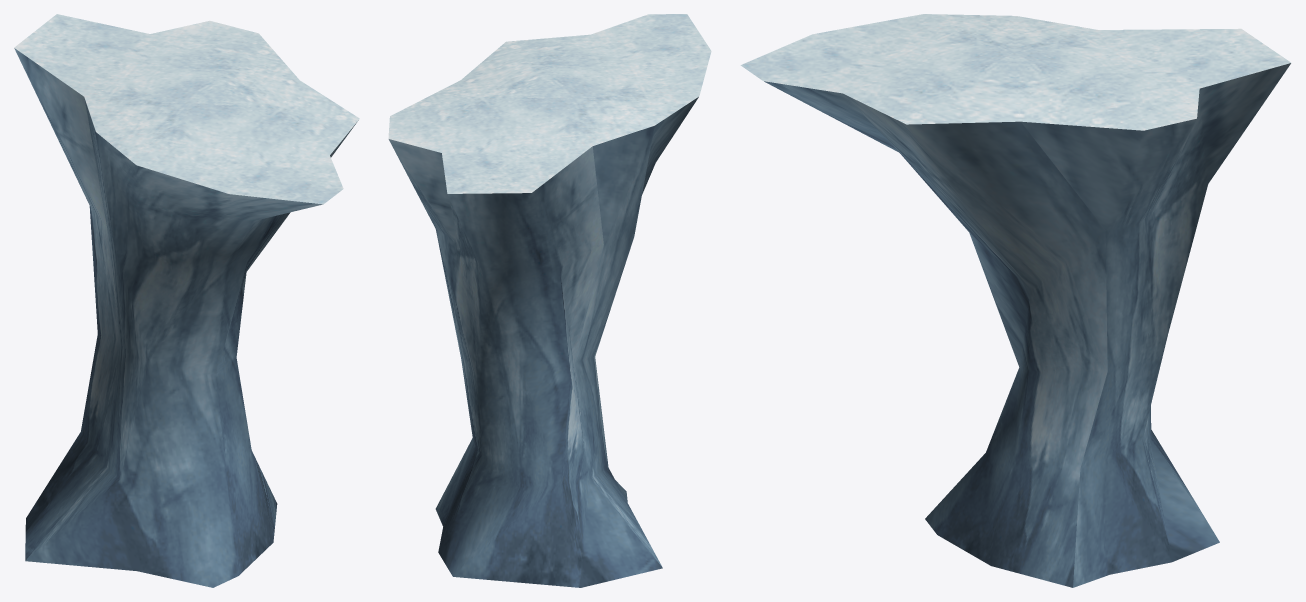
The picture shows the model from 3 angles, left to right: view 1: azimuth 30°, elevation 25°; view 2: azimuth 150°, elevation 25°; view 3: azimuth 270°, elevation 25°; orthographic projection. The views are drawn at different scales.
Parts seen in each view (by area): view 1: wj11; view 2: wj11; view 3: wj11.
Part boxes in pixels (x1,y1,x2,y2): wj11: (14, 14, 359, 587); wj11: (388, 14, 711, 587); wj11: (740, 14, 1290, 587).
Bounding box in the file's own units: 751 × 1233 × 1295.
Materials: 1 (1 with a texture image).
